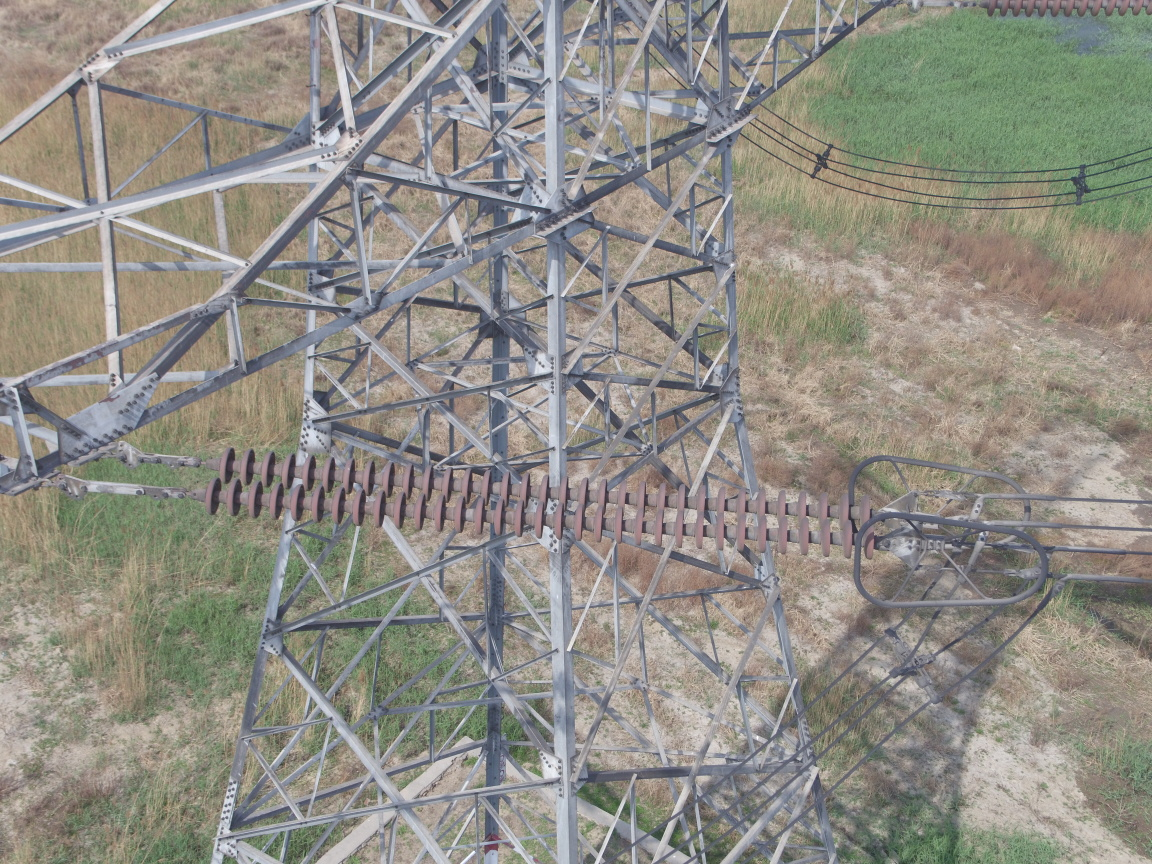insulator: (150, 441, 906, 566)
